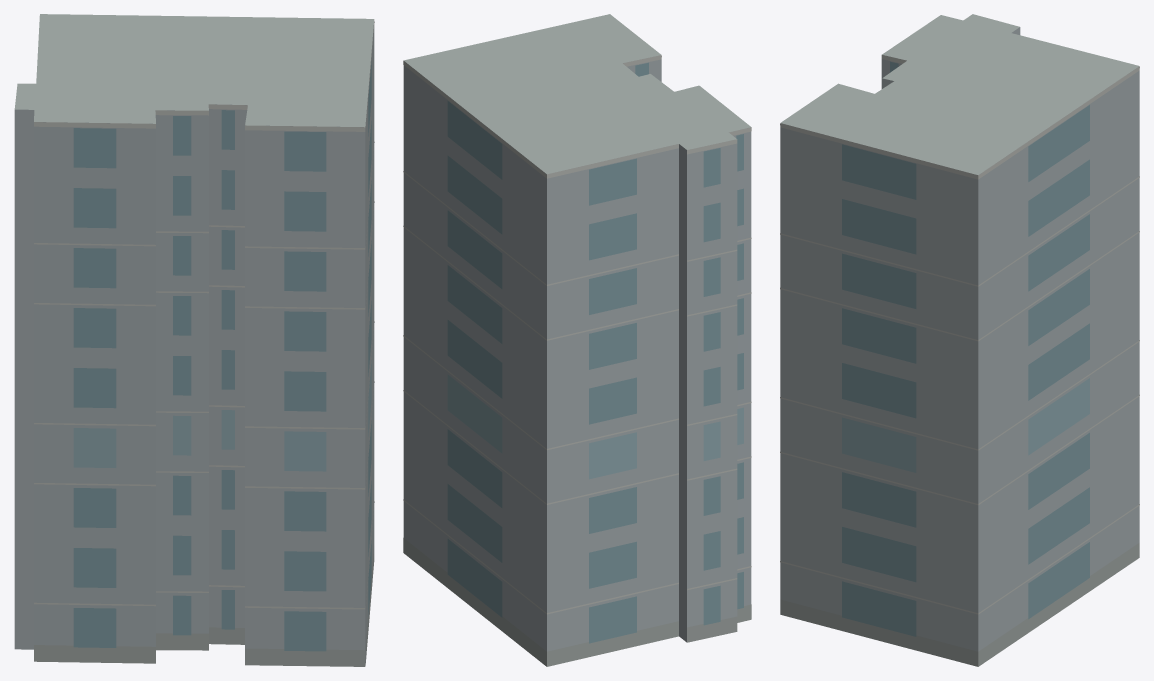
Rendered from survey-upis-32792361.glb.
3 views of the same model, side by side, from view 1: azimuth 30°, elevation 25°; view 2: azimuth 150°, elevation 25°; view 3: azimuth 270°, elevation 25° (orthographic). The views are drawn at different scales.
Visible parts, largest first — view 1: survey-upis-32792361.tmp; view 2: survey-upis-32792361.tmp; view 3: survey-upis-32792361.tmp.
Boxes of the visible parts, x1=… form: survey-upis-32792361.tmp: x1=14, y1=14, x2=374, y2=666; survey-upis-32792361.tmp: x1=403, y1=14, x2=751, y2=666; survey-upis-32792361.tmp: x1=780, y1=14, x2=1139, y2=666.
Size of the model in its own units: 19.33 by 27.45 by 18.21.
